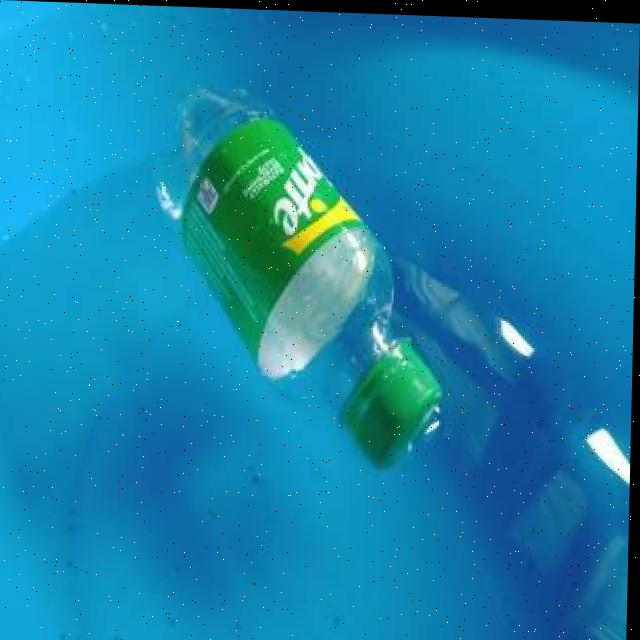bottle: (147, 78, 450, 472)
